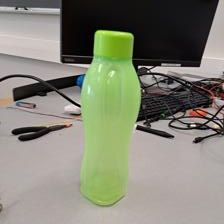bottle: (76, 28, 141, 208)
